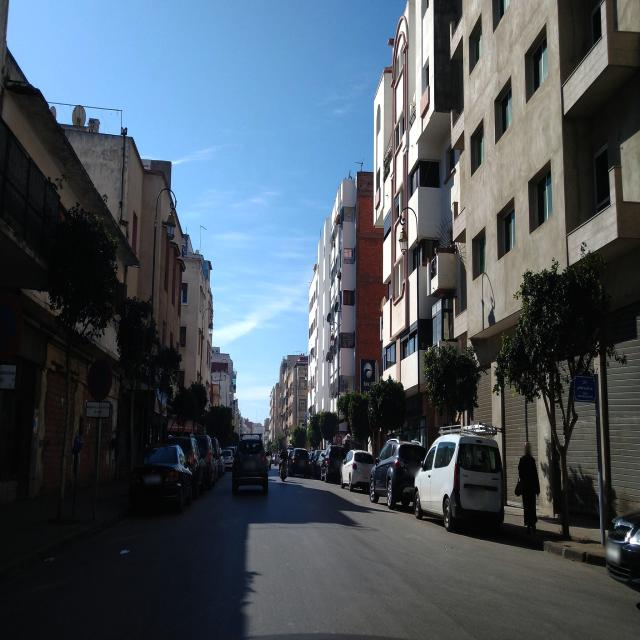bike: (278, 454, 288, 480)
car: (413, 424, 506, 532), (128, 443, 192, 513), (369, 436, 426, 509), (167, 434, 205, 498), (232, 435, 268, 495), (340, 449, 375, 490), (196, 435, 217, 489), (322, 444, 348, 482), (290, 447, 312, 477), (210, 437, 222, 477), (222, 446, 234, 471), (273, 452, 279, 464)
